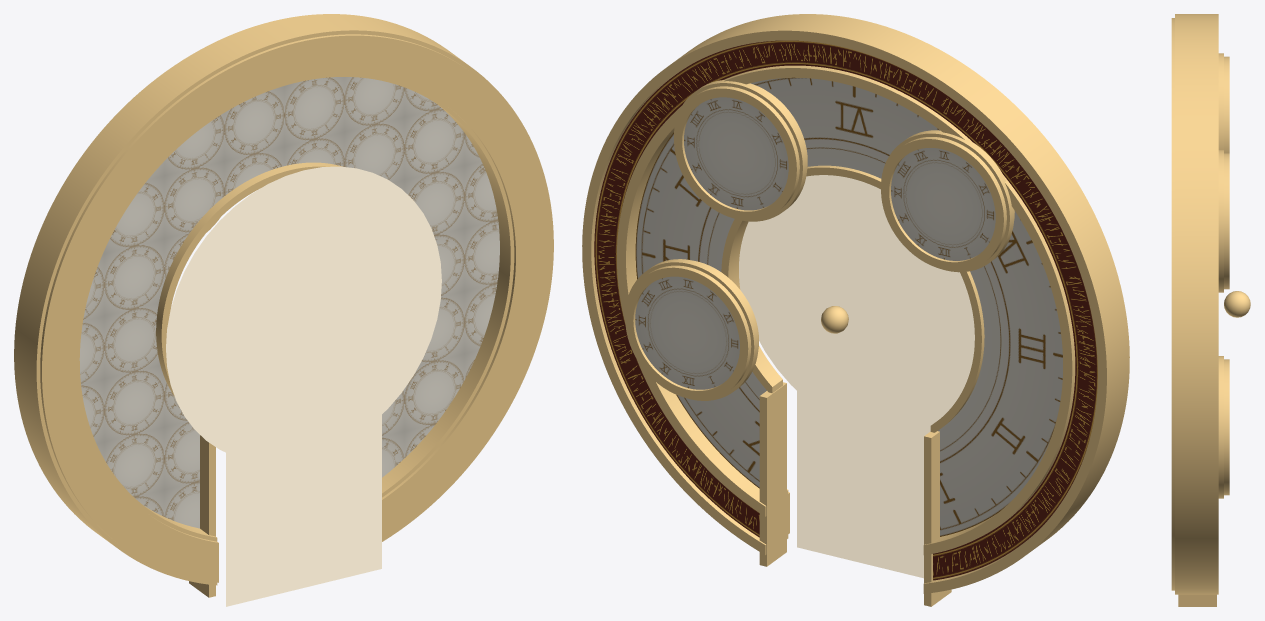
File: HubGate.gltf
3 renders of one model, left to right at view 1: azimuth 30°, elevation 25°; view 2: azimuth 150°, elevation 25°; view 3: azimuth 270°, elevation 25°, orthographic. The views are drawn at different scales.
Parts seen in each view (by area): view 1: HubGate; view 2: HubGate; view 3: HubGate.
Boxes of the visible parts, x1,y1,x2,y2 form: HubGate: (14,14,553,606); HubGate: (582,14,1129,606); HubGate: (1171,14,1250,606).
Bounding box in the file's own units: 17.24 × 17.32 × 2.75.
4 materials, 3 textured.
